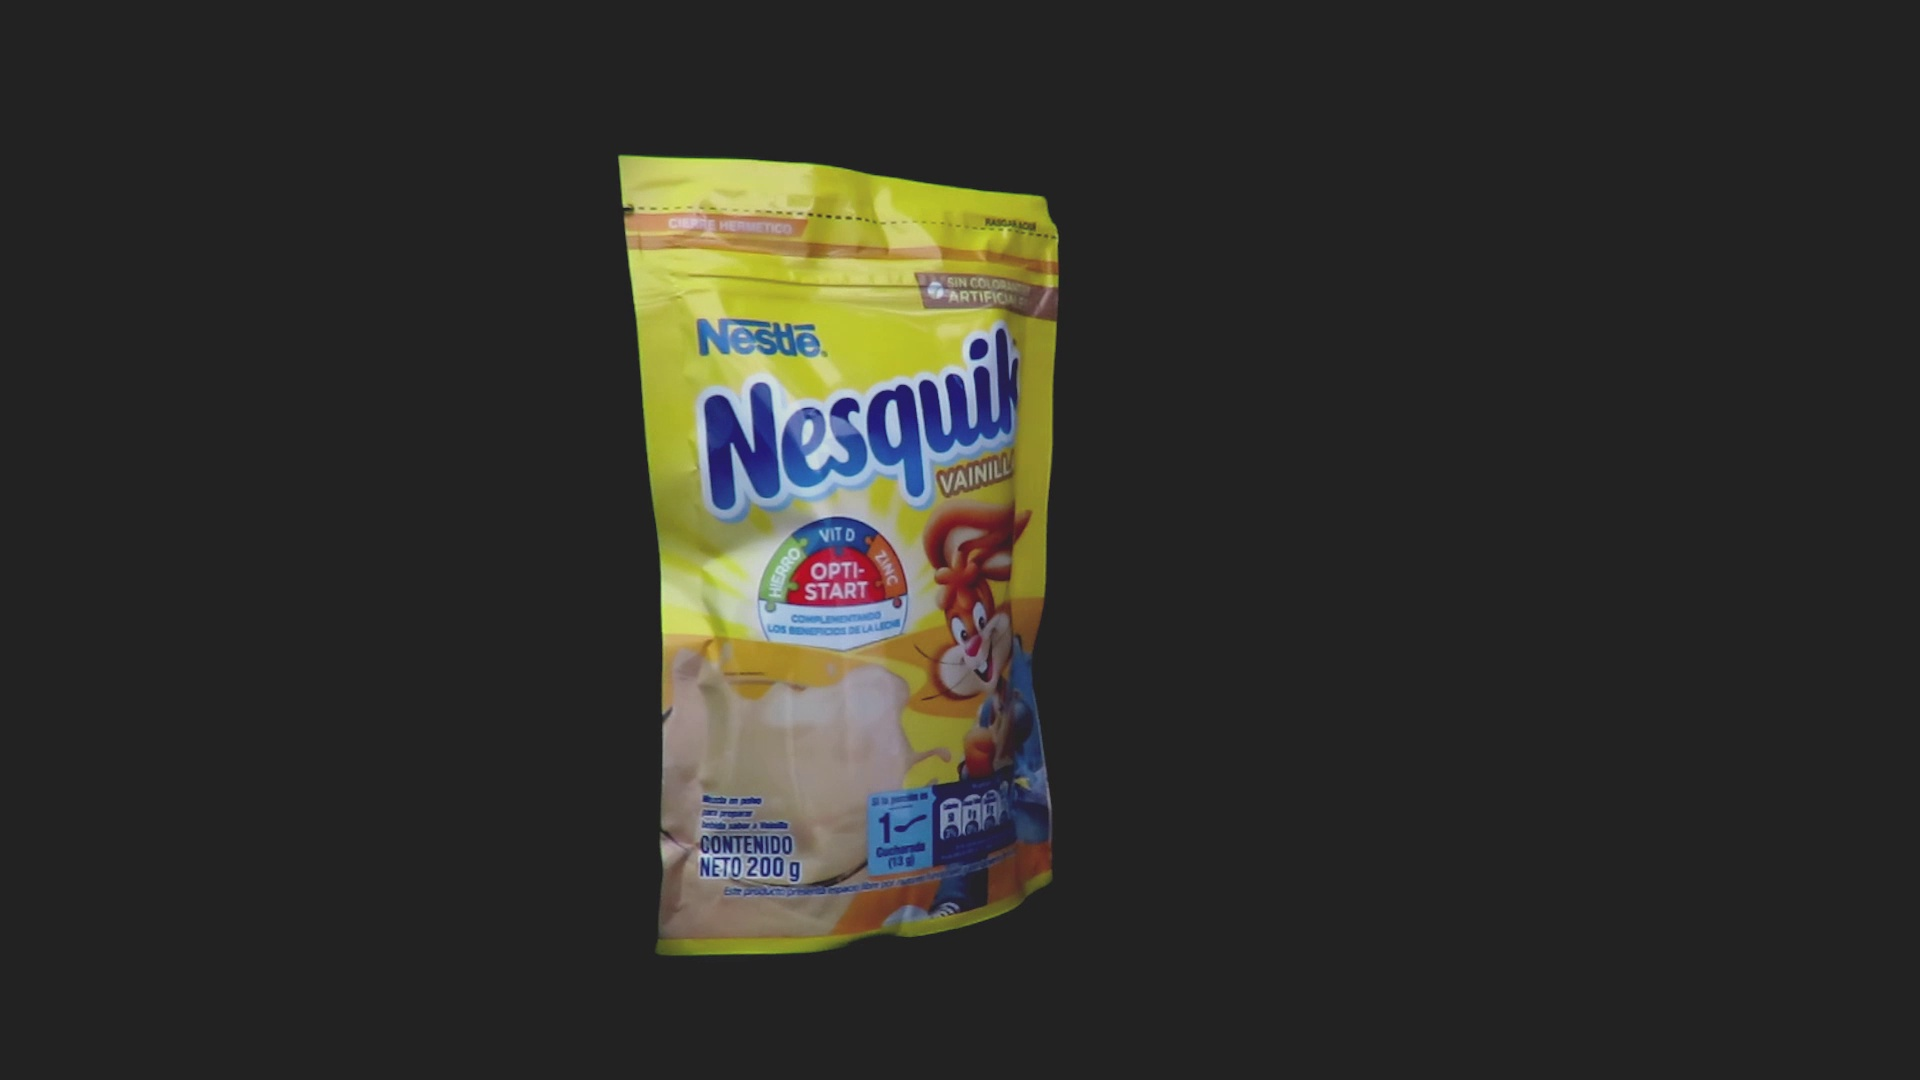COL0170306DYP20000: (613, 150, 1065, 963)
